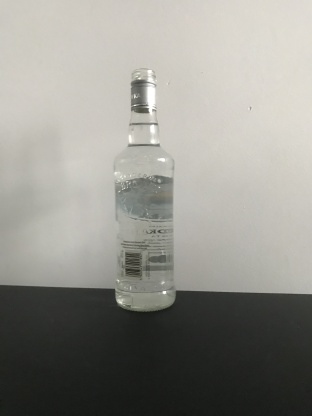nakretka: (128, 65, 158, 114)
